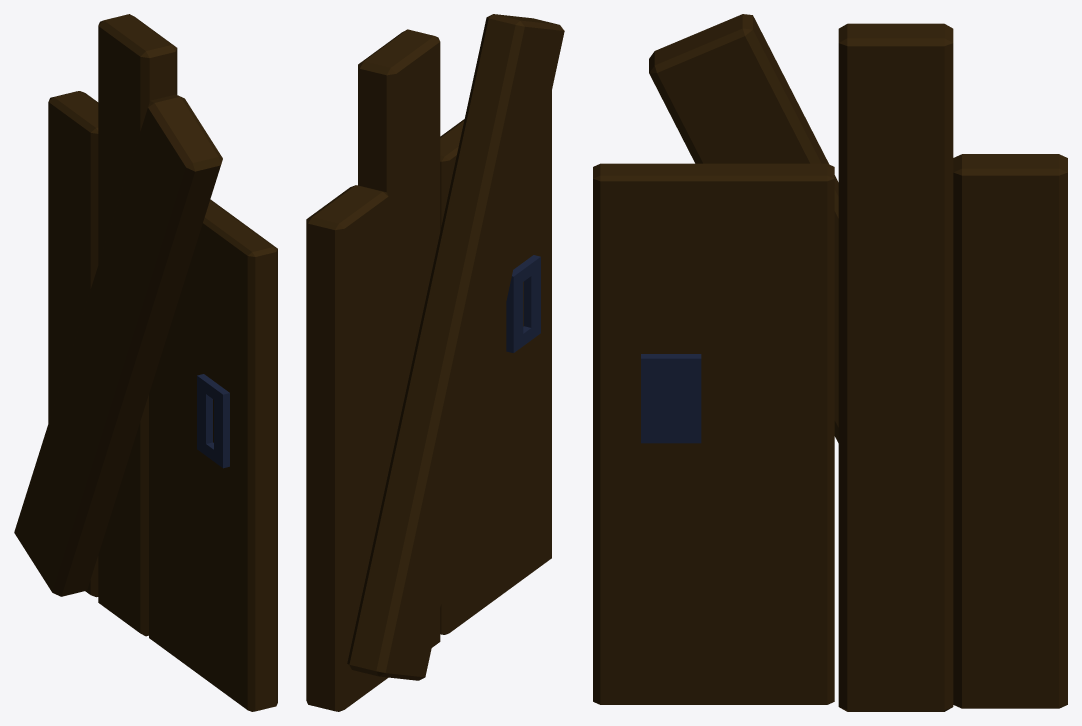
The model's file is Door1.obj.
3 renders of one model, left to right at view 1: azimuth 30°, elevation 25°; view 2: azimuth 150°, elevation 25°; view 3: azimuth 270°, elevation 25°, orthographic. The views are drawn at different scales.
Parts seen in each view (by area): view 1: Door1; view 2: Door1; view 3: Door1.
Boxes of the visible parts, x1,y1,x2,y2 form: Door1: (14, 14, 277, 711); Door1: (306, 14, 564, 711); Door1: (593, 14, 1067, 711).
Size of the model in its own units: 1.66 by 12.33 by 7.87.
